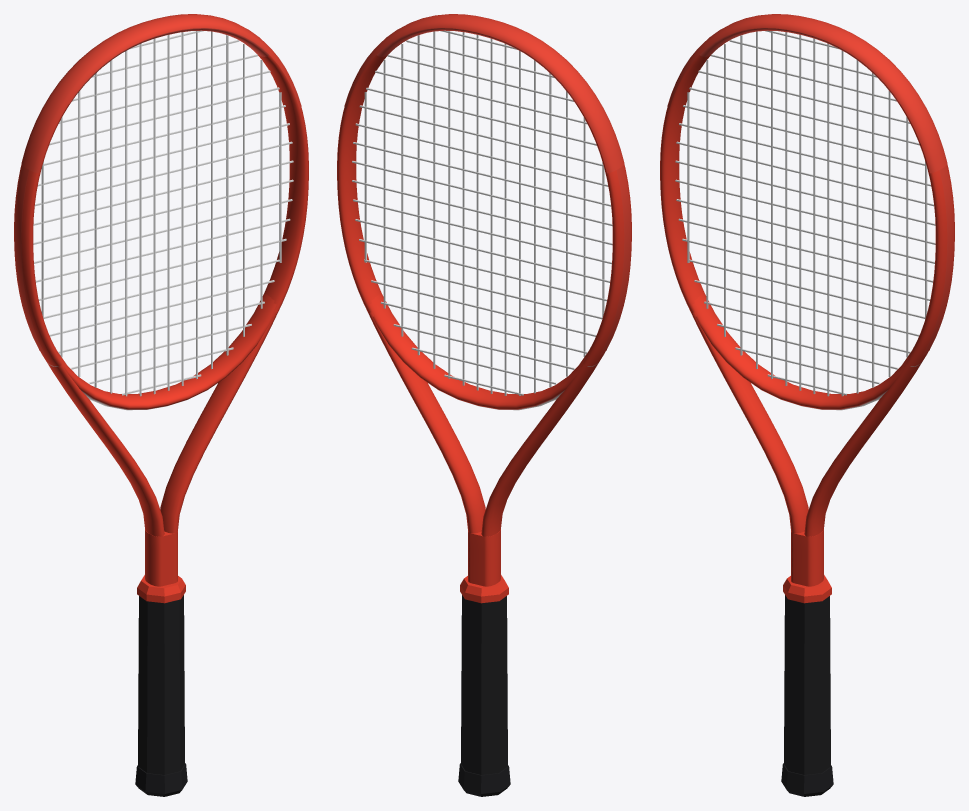
File: wilson-defyer-100.glb
The picture shows the model from 3 angles, left to right: view 1: azimuth 30°, elevation 25°; view 2: azimuth 150°, elevation 25°; view 3: azimuth 330°, elevation 25°; orthographic projection.
Parts seen in each view (by area): view 1: frame, strings_mains, strings_crosses, grip, bumper, grommets, butt_cap, collar; view 2: frame, strings_mains, strings_crosses, grip, bumper, grommets, butt_cap, collar; view 3: frame, strings_mains, strings_crosses, grip, bumper, grommets, butt_cap, collar.
Part boxes in pixels (<box>): frame: <box>14,28,308,586</box>; strings_mains: <box>41,31,281,396</box>; strings_crosses: <box>33,30,293,395</box>; grip: <box>138,595,184,774</box>; bumper: <box>21,14,301,173</box>; grommets: <box>14,165,45,355</box>; butt_cap: <box>135,763,187,796</box>; collar: <box>137,575,185,603</box>; frame: <box>337,28,631,586</box>; strings_mains: <box>364,31,604,395</box>; strings_crosses: <box>352,30,612,395</box>; grip: <box>461,595,507,774</box>; bumper: <box>344,14,624,173</box>; grommets: <box>600,165,631,355</box>; butt_cap: <box>458,763,510,796</box>; collar: <box>460,575,508,603</box>; frame: <box>660,28,954,586</box>; strings_mains: <box>687,31,927,396</box>; strings_crosses: <box>675,30,935,395</box>; grip: <box>784,595,830,774</box>; bumper: <box>667,14,947,173</box>; grommets: <box>923,165,954,355</box>; butt_cap: <box>781,763,833,796</box>; collar: <box>783,575,831,603</box>.
Size of the model in its own units: 0.2696 by 0.6861 by 0.0396.
